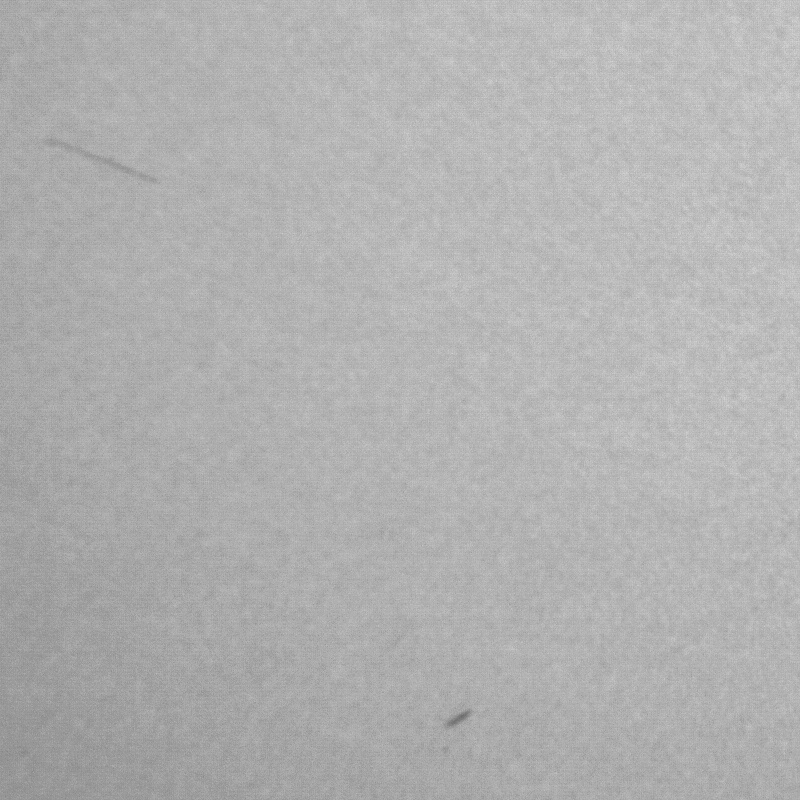defect: (48, 142, 166, 190), (434, 714, 469, 734)
